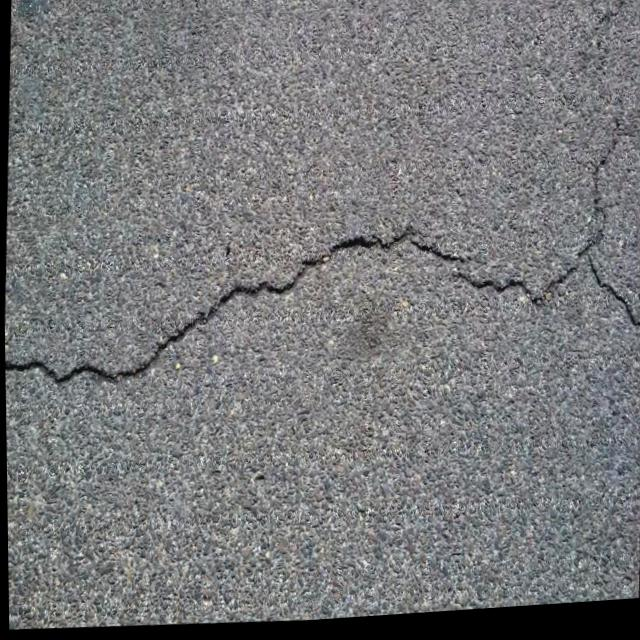Crack: (1, 87, 640, 452)
